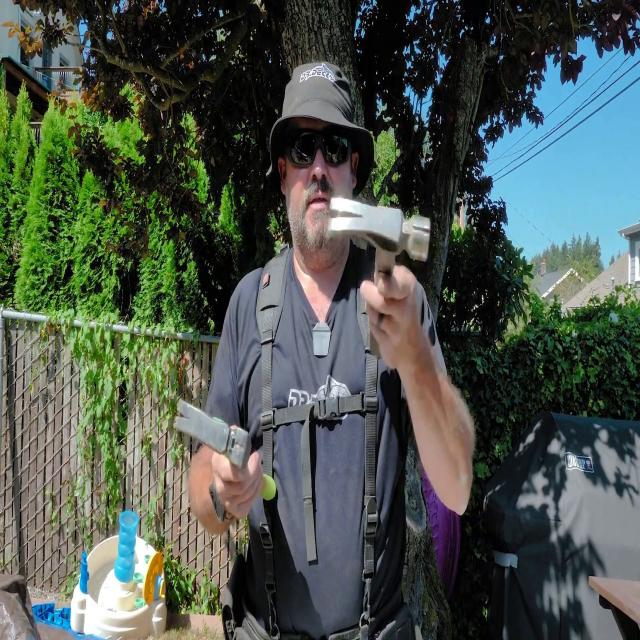hammer: (329, 197, 431, 355), (174, 399, 276, 500)
